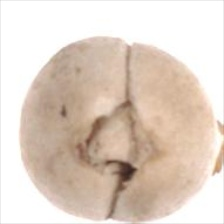L3: (76, 97, 144, 191)
L4: (19, 36, 216, 221)
